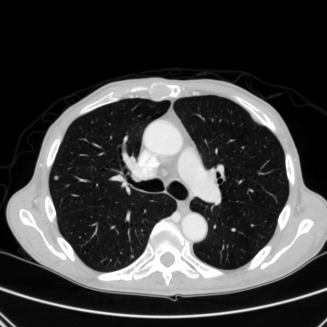nodule: (54, 175, 58, 179)
